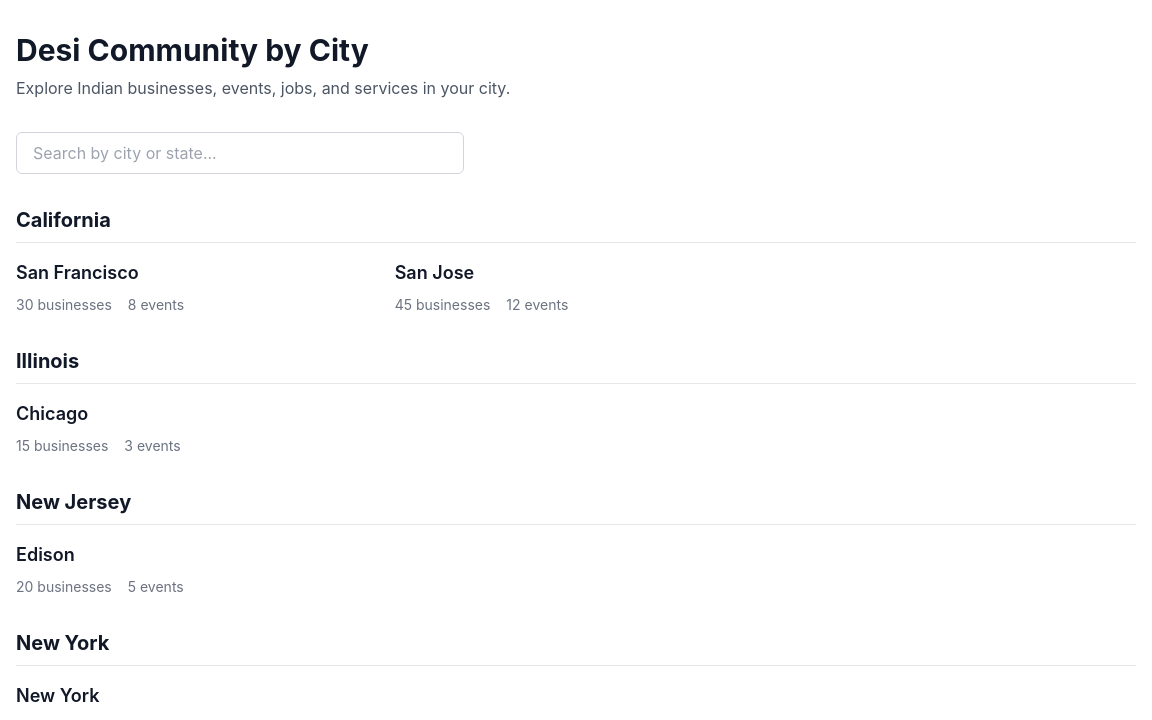
Test: CitiesPage › Search Filter › should filter cities by city name when searching for "San"
Expected: the heading "San Jose" is shown, [395,262,474,283]
Expected: the heading "San Francisco" is shown, [16,262,139,283]
Type "San" in search input
Type "San" into the field named "Search cities" at point(240, 153), box [16,132,464,174]
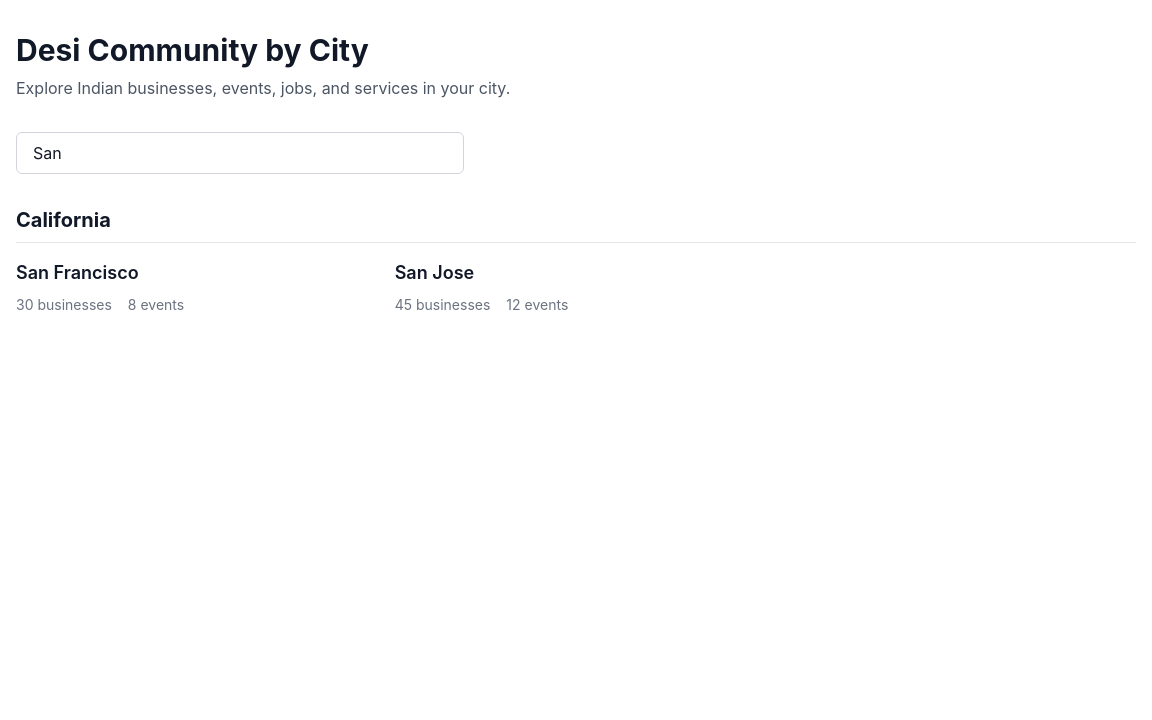
Expected: the heading "San Jose" is shown, [395,262,474,283]
Result: the link "Edison" is gone
Result: the link "Chicago" is gone
